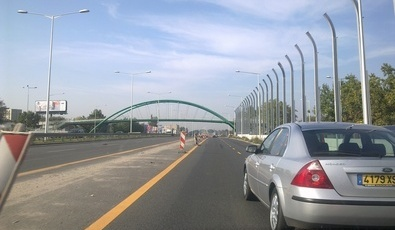bridge: (60, 100, 234, 129)
